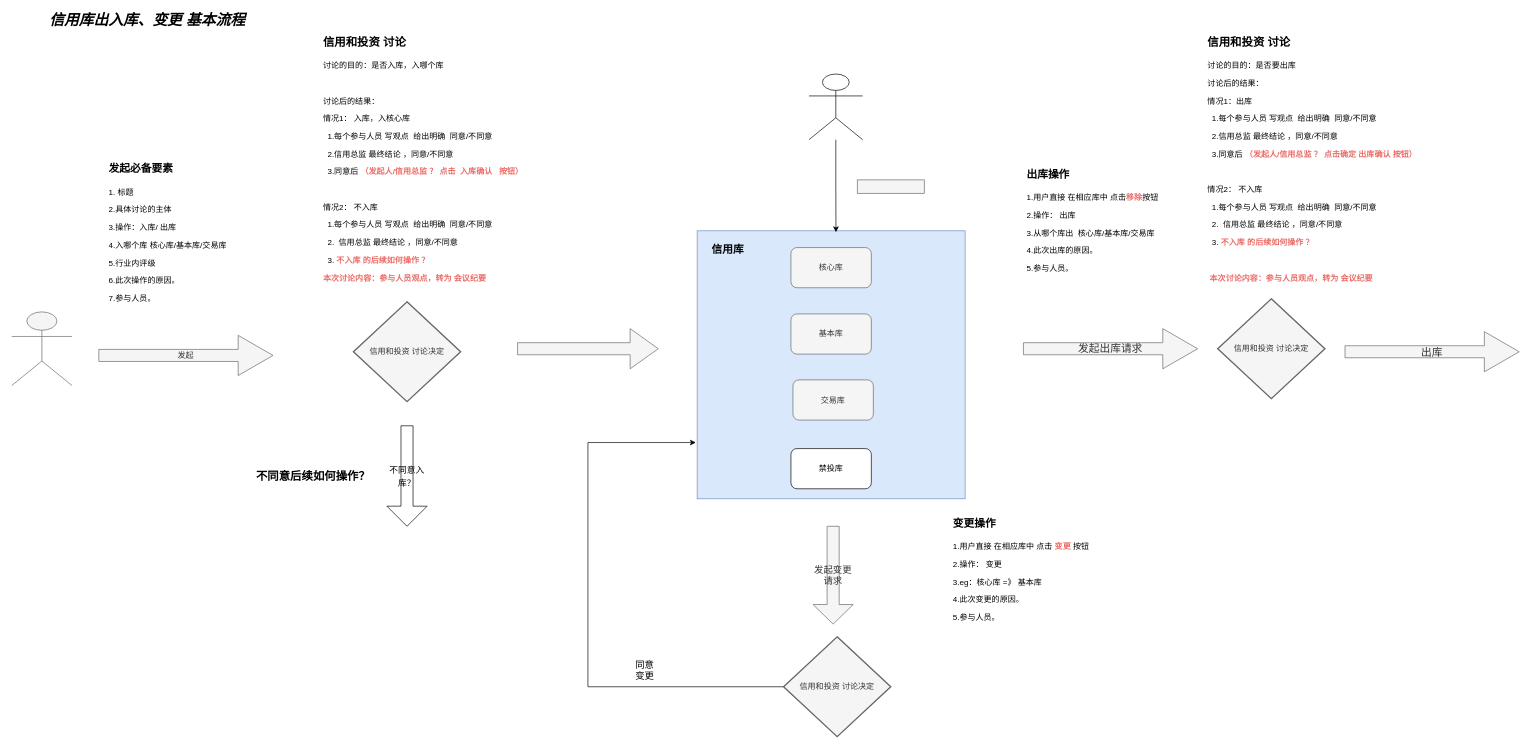
The diagram is 1531 pixels wide and 748 high, and some of its shapes have lost their labels. The shapes that lost their labels are listed below. From the top down, each one's centre as x and y in pixels, then its label:
point 835,106: 研究员和基助
point 890,186: 出库/变更库
point 41,348: 研究员
point 587,348: 同意入库
